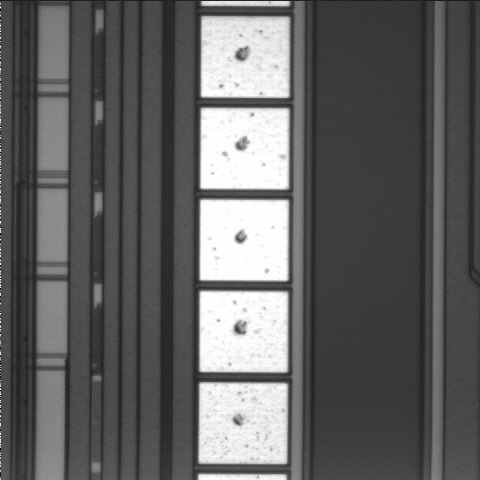pad: (200, 108, 289, 190), (199, 382, 288, 464), (201, 16, 289, 98), (200, 200, 289, 281), (200, 291, 288, 372)
